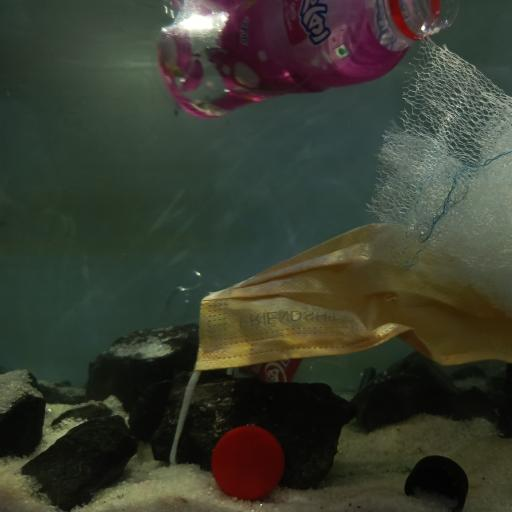bottle_cap: (210, 425, 286, 501), (404, 455, 470, 512)
mask: (172, 223, 512, 411)
net: (356, 33, 512, 313)
plastic_bottle: (154, 0, 455, 119), (160, 267, 376, 398)
